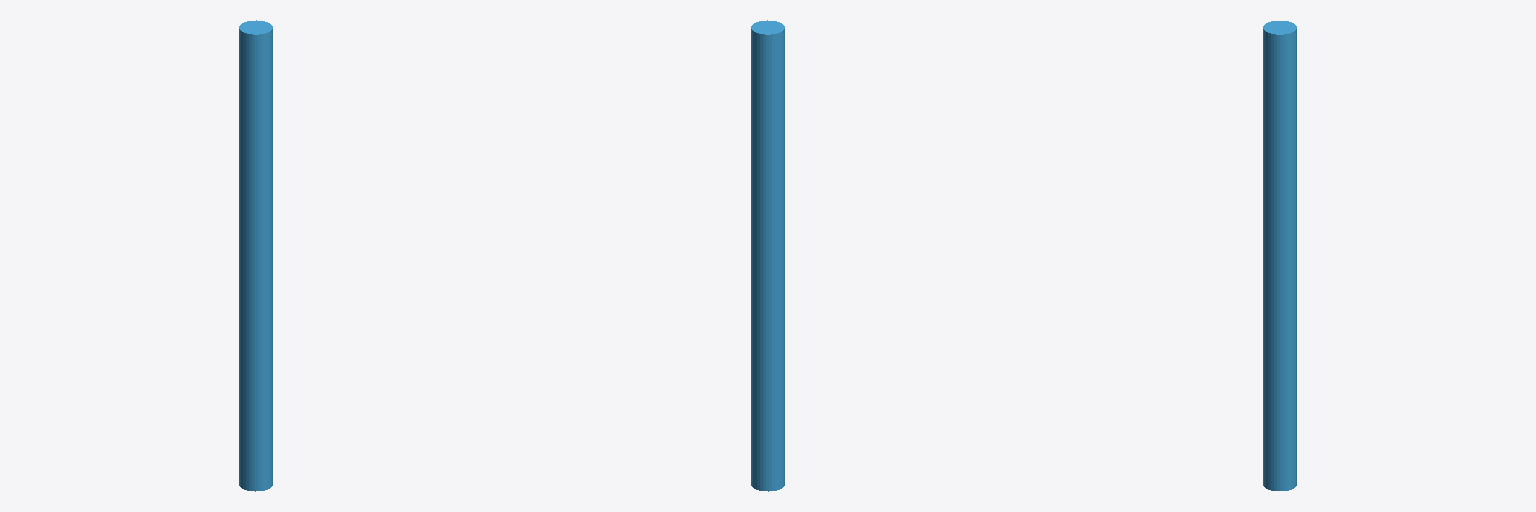
The robot description file, URDF, robot "Rod":
<?xml version="1.0" ?>
<robot name="Rod">

 	<link name="world"/>

    <link name="rod_link">
        <visual>
              <origin rpy="0 0 0" xyz="0.0 0.0 .15"/>
              <geometry>
                  <cylinder radius="0.01" length="0.3"/>
              </geometry>
        </visual>
        <collision>
              <origin rpy="0 0 0" xyz="0.0 0.0 0.15"/>
              <geometry>
                  <cylinder radius="0.01" length="0.3"/>
              </geometry>
        </collision>
        <inertial>
            <mass value="1"/>
            <inertia ixx="0.0001" ixy="0" ixz="0" iyy="0.0001" iyz="0" izz="0.00001"/>
        </inertial>
    </link>

    <joint name="world_joint" type="fixed">
        <parent link="world"/>
        <child link="rod_link"/>
        <origin rpy="0.0 0.0 0.0" xyz="0.0 0.0 0.0"/>
    </joint>
</robot>

--- What the picture shows (computed from the rendered views, not written in the file) ---
The picture shows the robot from 3 angles, left to right: view 1: azimuth 30°, elevation 25°; view 2: azimuth 150°, elevation 25°; view 3: azimuth 270°, elevation 25°; orthographic projection.
Model Rod with 2 links and 1 joints (1 fixed), rooted at world, posed all joints at 0.
Links seen in each view (by area): view 1: rod_link; view 2: rod_link; view 3: rod_link.
Link boxes in pixels (<box>): rod_link: <box>239,20,272,491</box>; rod_link: <box>751,20,784,491</box>; rod_link: <box>1263,21,1296,490</box>.
Bounding box of the posed robot: 0.02 × 0.02 × 0.3 m (x, y, z).
Geometry: primitives only (box / cylinder / sphere), no mesh files.